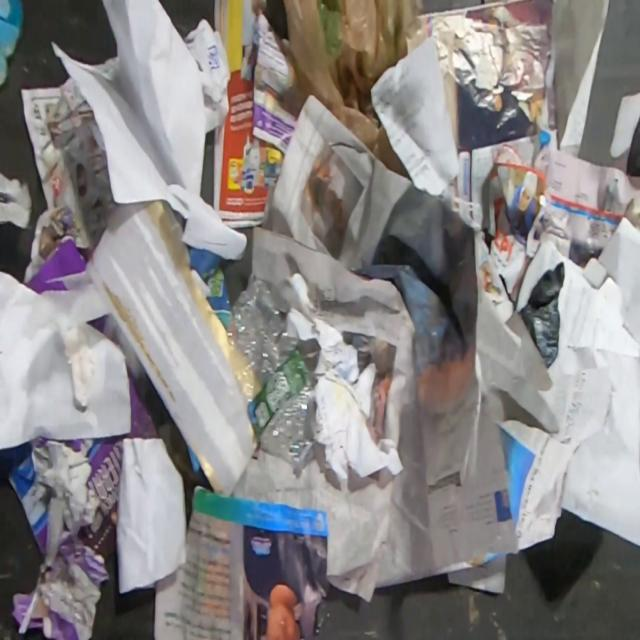cardboard: (56, 362, 162, 562), (0, 439, 60, 553), (20, 230, 88, 296)
rigid_plastic: (227, 279, 317, 479)
soft_plastic: (285, 0, 415, 182)
